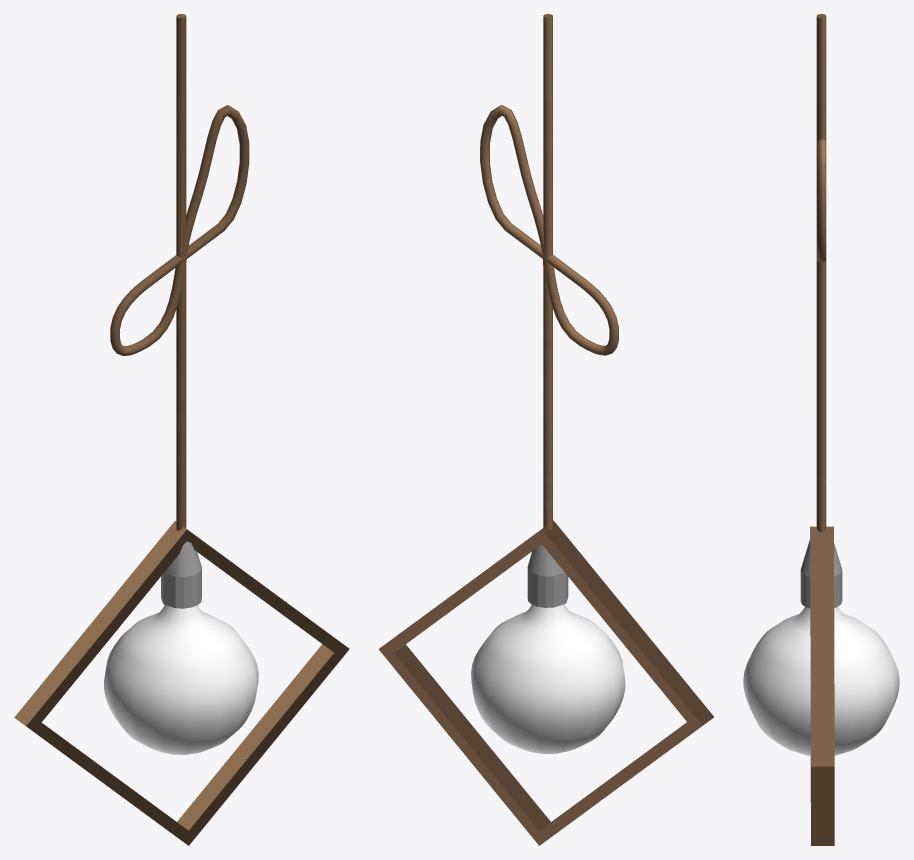
The model's file is lampara.obj.
3 views of the same model, side by side, from view 1: azimuth 30°, elevation 25°; view 2: azimuth 150°, elevation 25°; view 3: azimuth 270°, elevation 25° (orthographic).
Visible parts, largest first — view 1: Line004, Rectangle006, Line001, Line003; view 2: Line004, Rectangle006, Line001, Line003; view 3: Line004, Rectangle006, Line001, Line003.
Part boxes in pixels (x1=…): Line004: x1=104, y1=605, x2=258, y2=754; Rectangle006: x1=14, y1=520, x2=349, y2=845; Line001: x1=110, y1=14, x2=249, y2=530; Line003: x1=161, y1=541, x2=201, y2=608; Line004: x1=471, y1=604, x2=625, y2=753; Rectangle006: x1=378, y1=520, x2=713, y2=845; Line001: x1=480, y1=14, x2=618, y2=529; Line003: x1=527, y1=544, x2=568, y2=607; Line004: x1=743, y1=606, x2=899, y2=755; Rectangle006: x1=810, y1=526, x2=834, y2=845; Line001: x1=816, y1=14, x2=826, y2=532; Line003: x1=800, y1=540, x2=842, y2=608.
Bounding box in the file's own units: 5.9 × 14.38 × 2.46.
4 materials, 4 textured.
